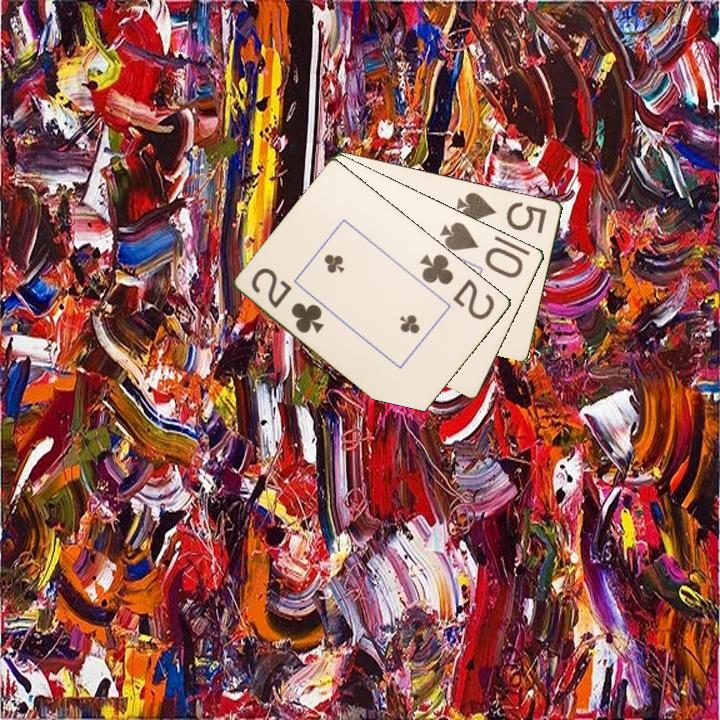10s: (437, 218, 526, 281)
2c: (416, 250, 498, 323), (248, 264, 327, 336)
5s: (453, 188, 550, 236)
